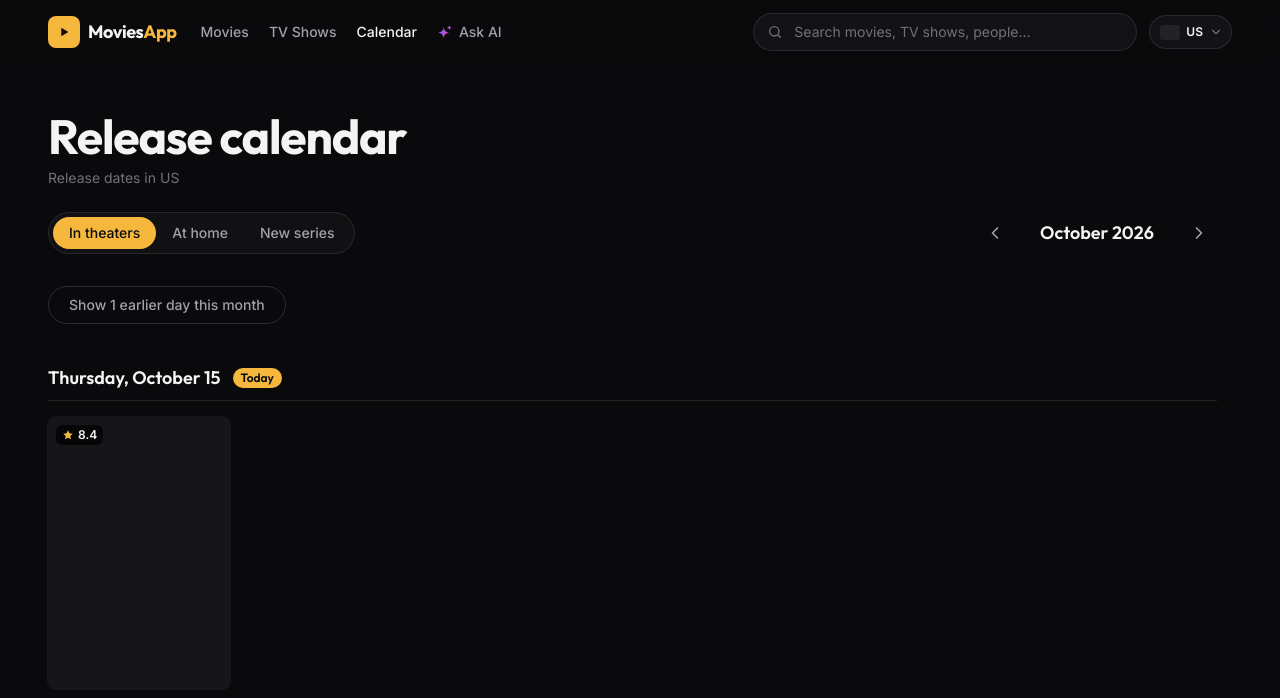
CalendarPage › groups the month's releases by day, starting from today
Expected: the text "Today" is shown, 233,368 -> 282,388
Expected: the text "Early Bird" is not shown
Click the button "Show 1 earlier day this month" at (167, 305), box 48,286 -> 286,324
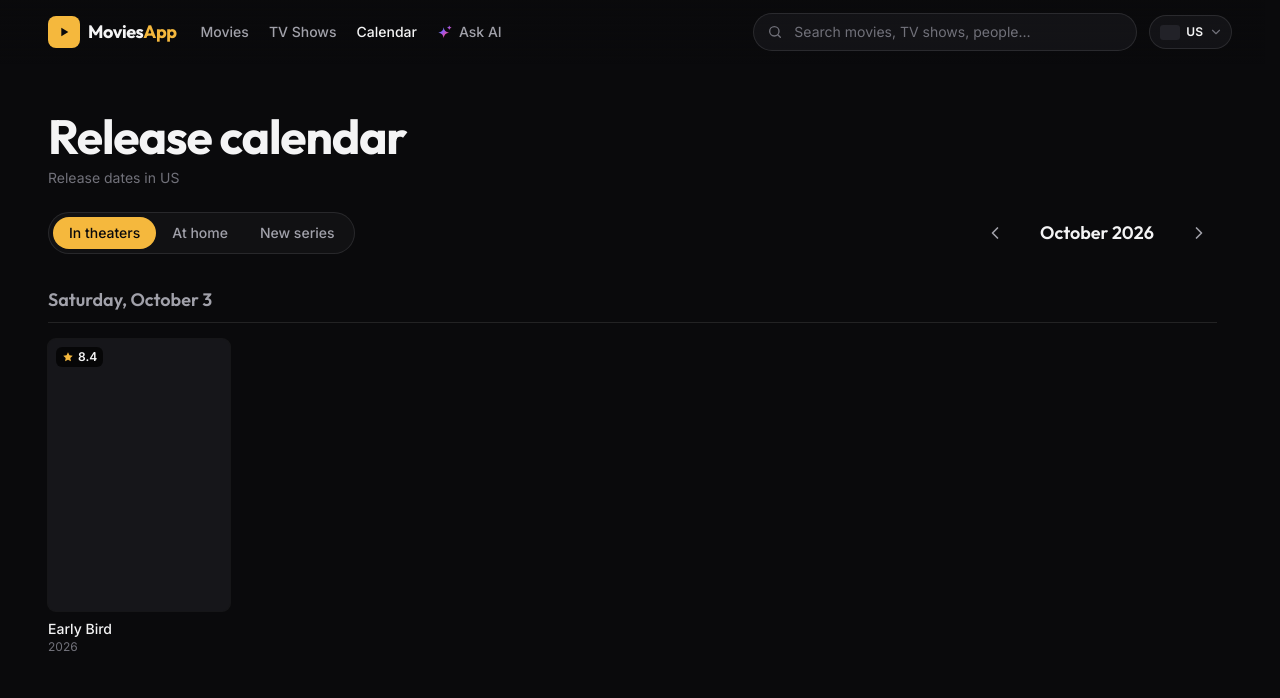
Now the element "Saturday, October 3" is shown, box 48,286 -> 1217,655
